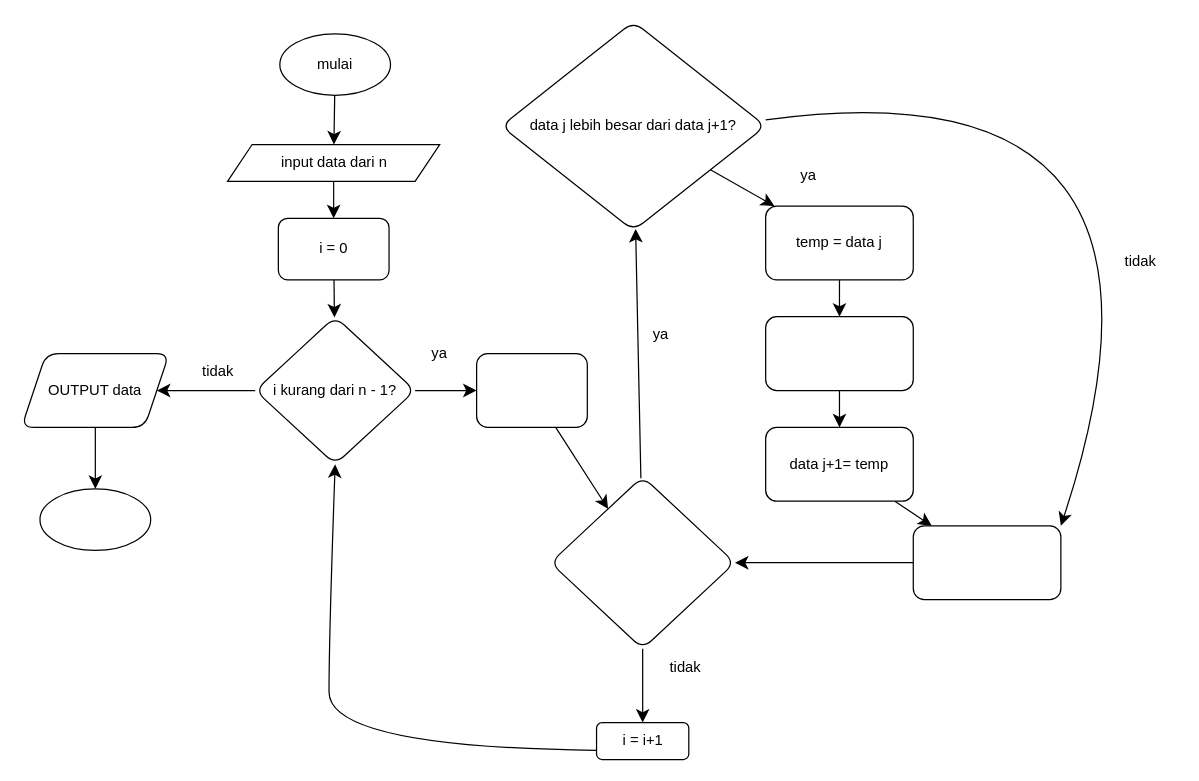
This 1199x781 diagram has some shape labels left out. Each missing label, with the centre of its shape:
"data j = data j + 1" belongs at (838,353).
"j = 0" belongs at (531,389).
"j kurang dari n-1-i?" belongs at (642,562).
"j=j+1" belongs at (986,562).
"selesai" belongs at (95,519).
